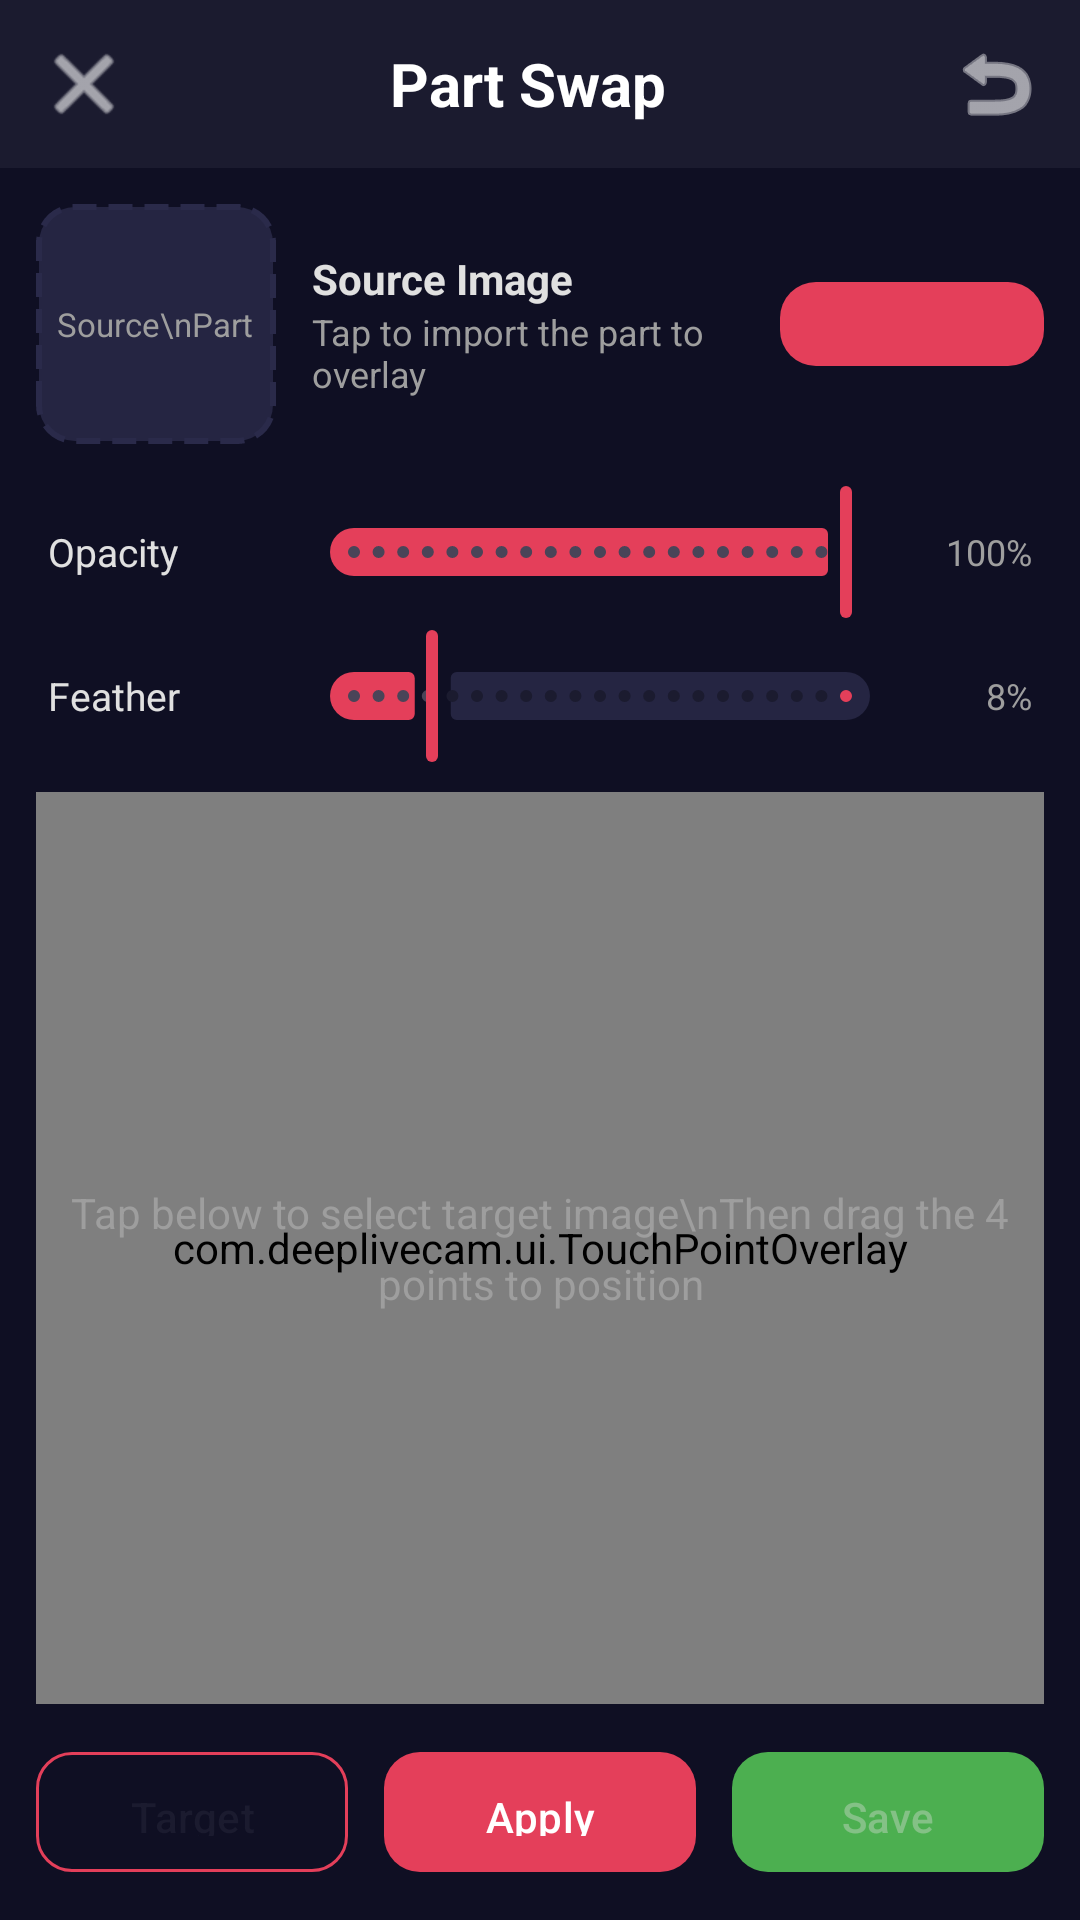

Where icons sit on this 1080*1920 app screen, as (x1, y1, x2, y2):
Back: (54, 54, 114, 114)
Reset Points: (963, 53, 1032, 116)
